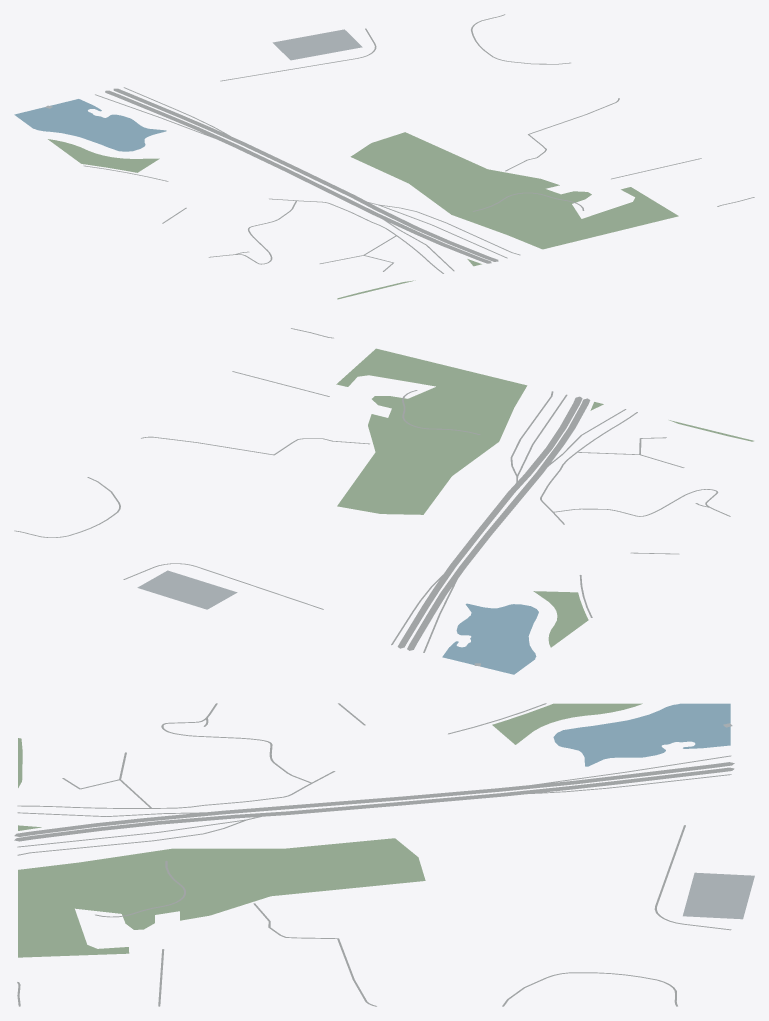
File: -14_14-known-coarse.glb
3 renders of one model, top to bottom at view 1: azimuth 30°, elevation 25°; view 2: azimuth 150°, elevation 25°; view 3: azimuth 270°, elevation 25°, orthographic. The views are drawn at different scales.
Bounding box in the file's own units: 1003 × 0.15 × 1034.
